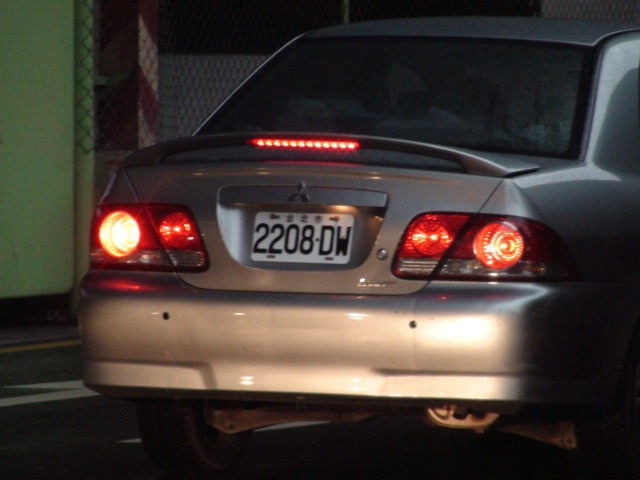plate: (250, 206, 356, 272)
